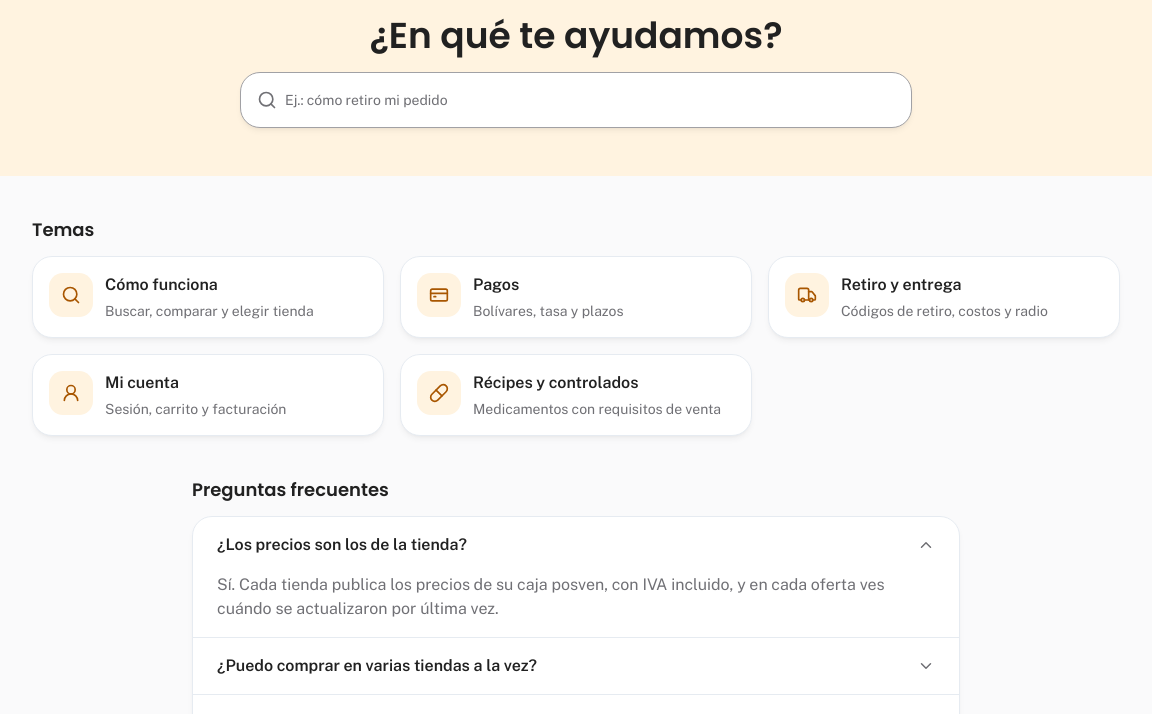
Scenario: HelpCenter › sin canal de contacto, sin coincidencias no invita a escribir
Type "zzzzzz" into the search field named "Buscar en la ayuda" at (590,100), box [285,78,895,122]
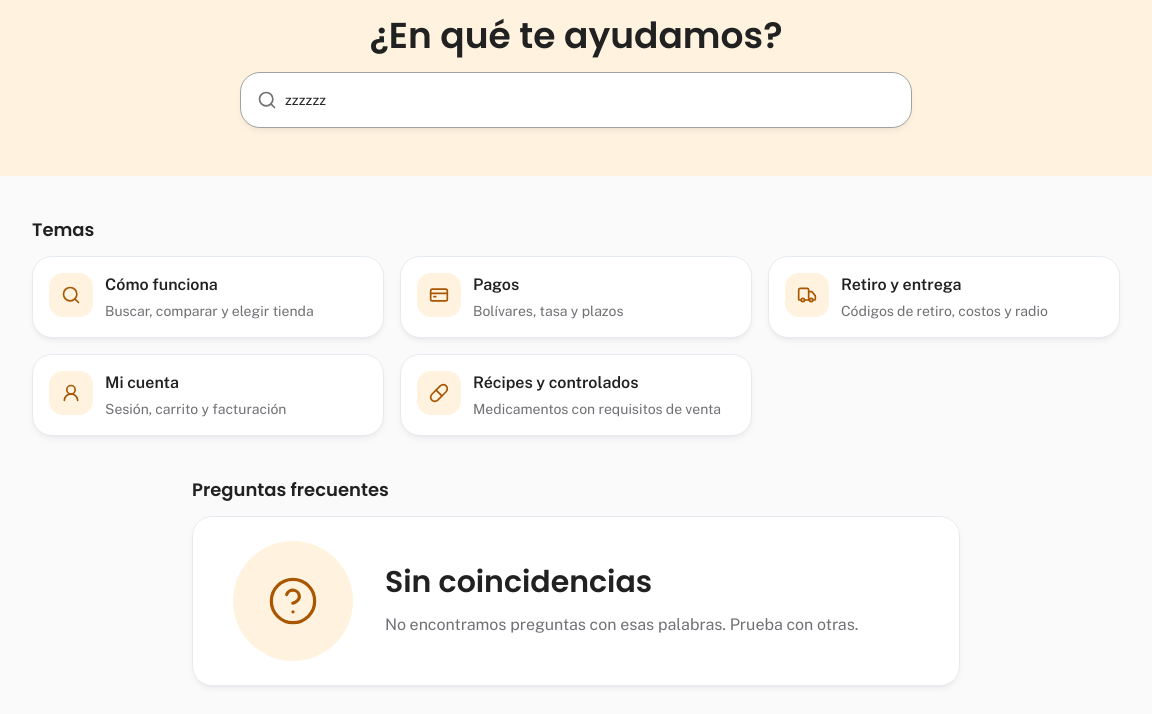
Expected: the text "Prueba con otras." is shown, [385,615,858,634]
